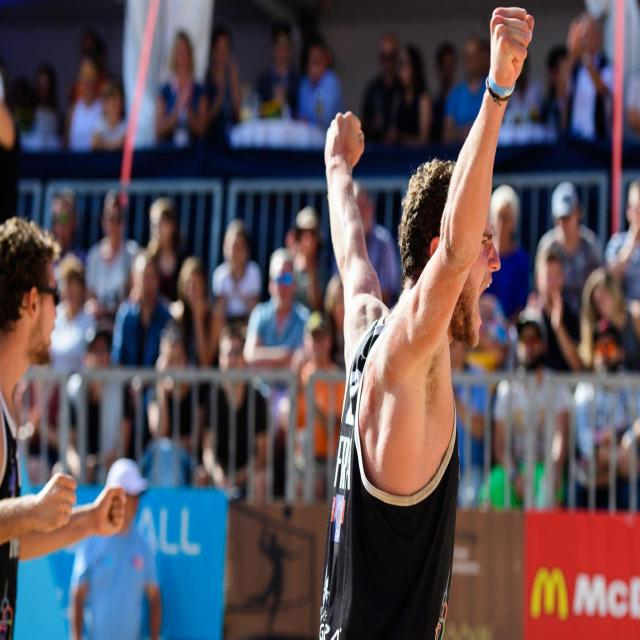body: (306, 0, 540, 639), (0, 215, 128, 639), (65, 456, 166, 639), (478, 304, 564, 511), (575, 265, 639, 484), (286, 310, 348, 504), (200, 330, 270, 500), (328, 179, 398, 349), (66, 328, 136, 482), (566, 16, 614, 214), (537, 179, 603, 318), (85, 188, 145, 340), (524, 244, 584, 396), (242, 246, 312, 374), (206, 217, 262, 376), (67, 51, 116, 214), (482, 184, 534, 335), (112, 250, 174, 374), (292, 37, 344, 181), (144, 323, 202, 451), (199, 25, 245, 182), (427, 29, 460, 236), (48, 252, 100, 374), (170, 256, 226, 368), (155, 29, 204, 153), (450, 361, 490, 509), (2, 54, 58, 157), (362, 31, 408, 144), (512, 40, 568, 130), (391, 40, 435, 148), (446, 39, 492, 142), (254, 21, 300, 121), (605, 177, 640, 300), (288, 204, 326, 312), (49, 188, 88, 292), (149, 196, 185, 304), (68, 58, 108, 153), (90, 80, 128, 152), (626, 40, 640, 150)
